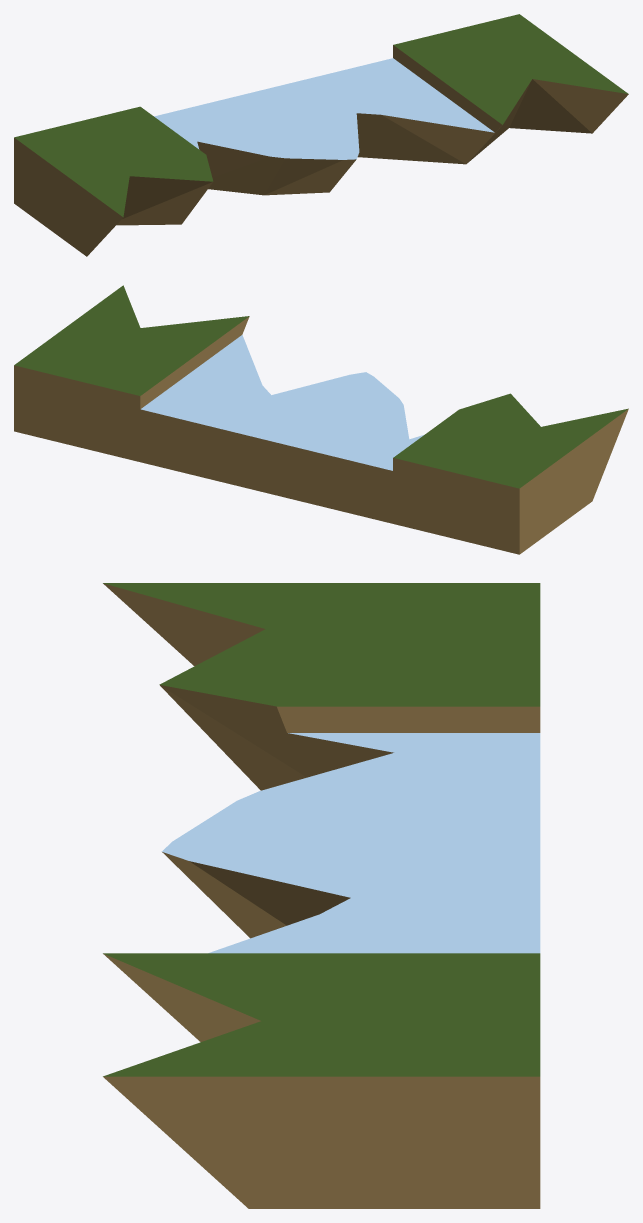
Rendered from Terrain_Tile_Grass_Dirt_Ledge_River_02.fbx.
The picture shows the model from 3 angles, top to bottom: view 1: azimuth 30°, elevation 25°; view 2: azimuth 150°, elevation 25°; view 3: azimuth 270°, elevation 25°; orthographic projection. The views are drawn at different scales.
Parts seen in each view (by area): view 1: Terrain_Tile_Grass_Dirt_Ledge_River_02; view 2: Terrain_Tile_Grass_Dirt_Ledge_River_02; view 3: Terrain_Tile_Grass_Dirt_Ledge_River_02.
Part boxes in pixels (<box>): Terrain_Tile_Grass_Dirt_Ledge_River_02: <box>14,14,628,256</box>; Terrain_Tile_Grass_Dirt_Ledge_River_02: <box>14,285,628,554</box>; Terrain_Tile_Grass_Dirt_Ledge_River_02: <box>103,583,540,1208</box>.
Bounding box in the file's own units: 126 × 15.75 × 47.24.
